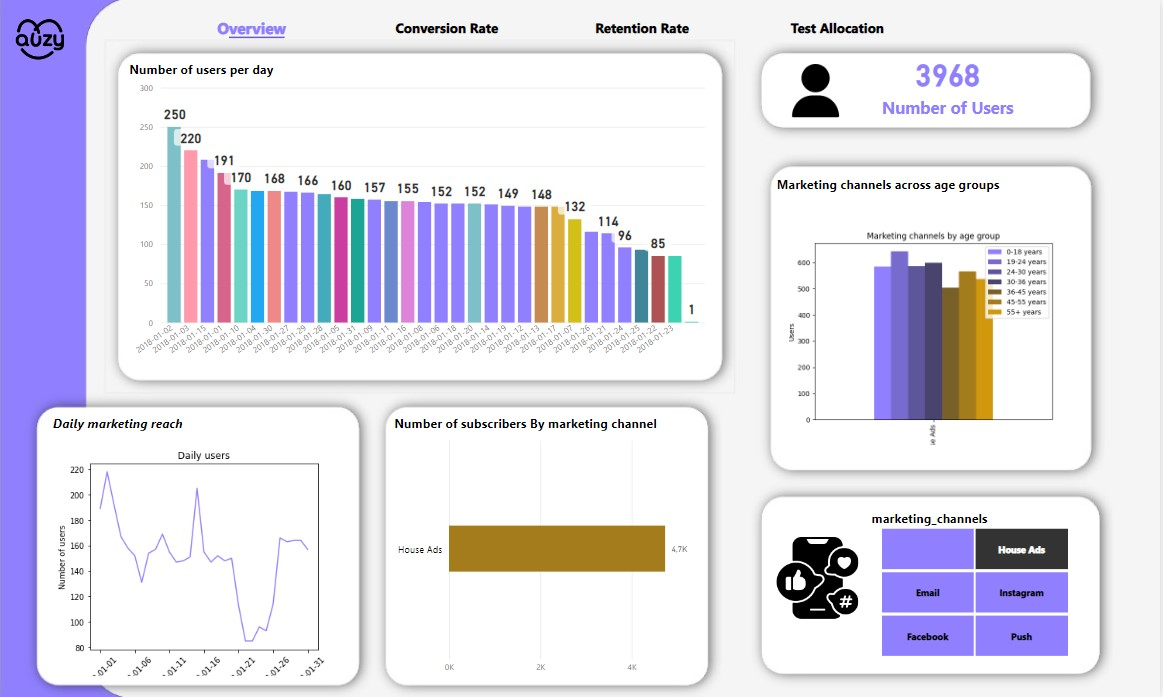

Layout of this report page (visuals, bound fields, positions):
{"tool":"powerbi","page":{"name":"Overview","canvas":[1500,900],"ordinal":0},"visuals":[{"type":"pythonVisual","title":"Marketing channels across age groups","fields":{"Values":["marketing.age_group","marketing.marketing_channel","marketing.user_id"]},"box":[998.3,226.7,405,378.3],"z":0},{"type":"lineStackedColumnComboChart","title":"Number of users per day ","fields":{"Category":["marketing.date_served"],"Y":["CountNonNull(marketing.user_id)"]},"box":[163.3,78.3,753.3,391.7],"z":1000},{"type":"card","title":"Number of Users ","fields":{"Values":["Count(marketing.user_id)"]},"box":[1053.3,61.7,341.7,95],"z":2000},{"type":"image","box":[1003.3,78.3,100,78.3],"z":3000},{"type":"clusteredBarChart","title":"Number of subscribers By marketing channel","fields":{"Category":["marketing.marketing_channel"],"Y":["CountNonNull(marketing.subscribing_channel)"]},"box":[505,535,398.3,343.3],"z":4000},{"type":"pythonVisual","title":"Daily marketing reach","fields":{"Values":["marketing.date_served","marketing.user_id"]},"box":[65,535,390,343.3],"z":5000},{"type":"slicer","fields":{"Values":["marketing.marketing_channel"]},"box":[1113.3,653.3,290,201.7],"z":6000},{"type":"image","box":[998.3,676.7,115,138.3],"z":7000},{"type":"shape","box":[296.9,35.9,71.9,28.1],"z":8000},{"type":"pageNavigator","box":[204.7,10.9,1000,50],"z":9000},{"type":"image","box":[0,1.5,105.6,98.2],"z":9001}]}

Visuals, with their boxes in screenshot pixels (x1, y1, x2, y2), scaled from the page's 1500x900 canvas onto the 1163x697 screenshot:
"Marketing channels across age groups" pythonVisual: detection(774, 176, 1088, 469)
"Number of users per day " lineStackedColumnComboChart: detection(127, 61, 711, 364)
"Number of Users " card: detection(817, 48, 1082, 121)
image: detection(778, 61, 855, 121)
"Number of subscribers By marketing channel" clusteredBarChart: detection(392, 414, 700, 680)
"Daily marketing reach" pythonVisual: detection(50, 414, 353, 680)
slicer - marketing.marketing_channel: detection(863, 506, 1088, 662)
image: detection(774, 524, 863, 631)
shape: detection(230, 28, 286, 50)
pageNavigator: detection(159, 8, 934, 47)
image: detection(0, 1, 82, 77)
